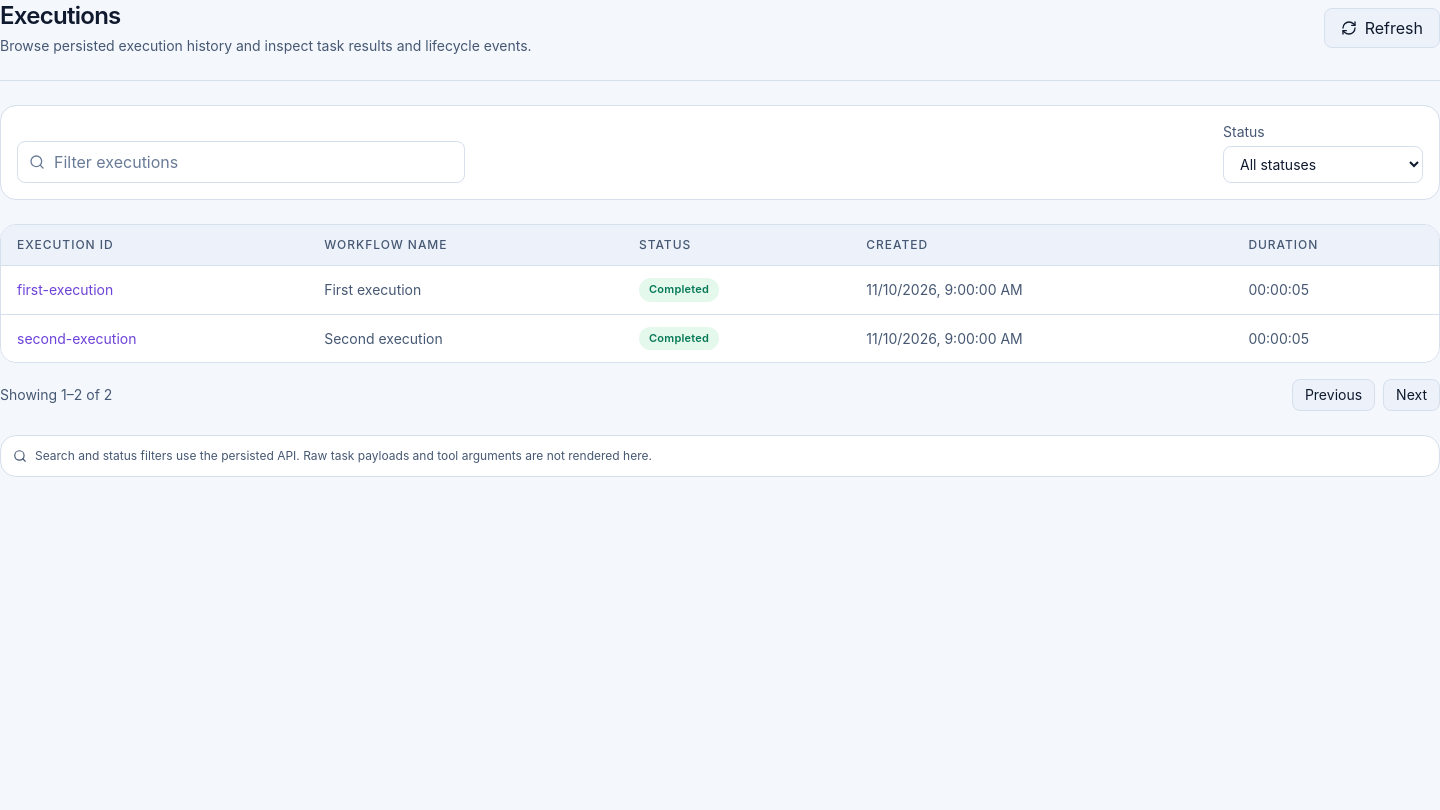
Test case: ExecutionsPage › ignores a stale detail response after selecting another execution
Step 1. Click the button "first-execution" → (65, 290), box x1=17 y1=280 x2=113 y2=300
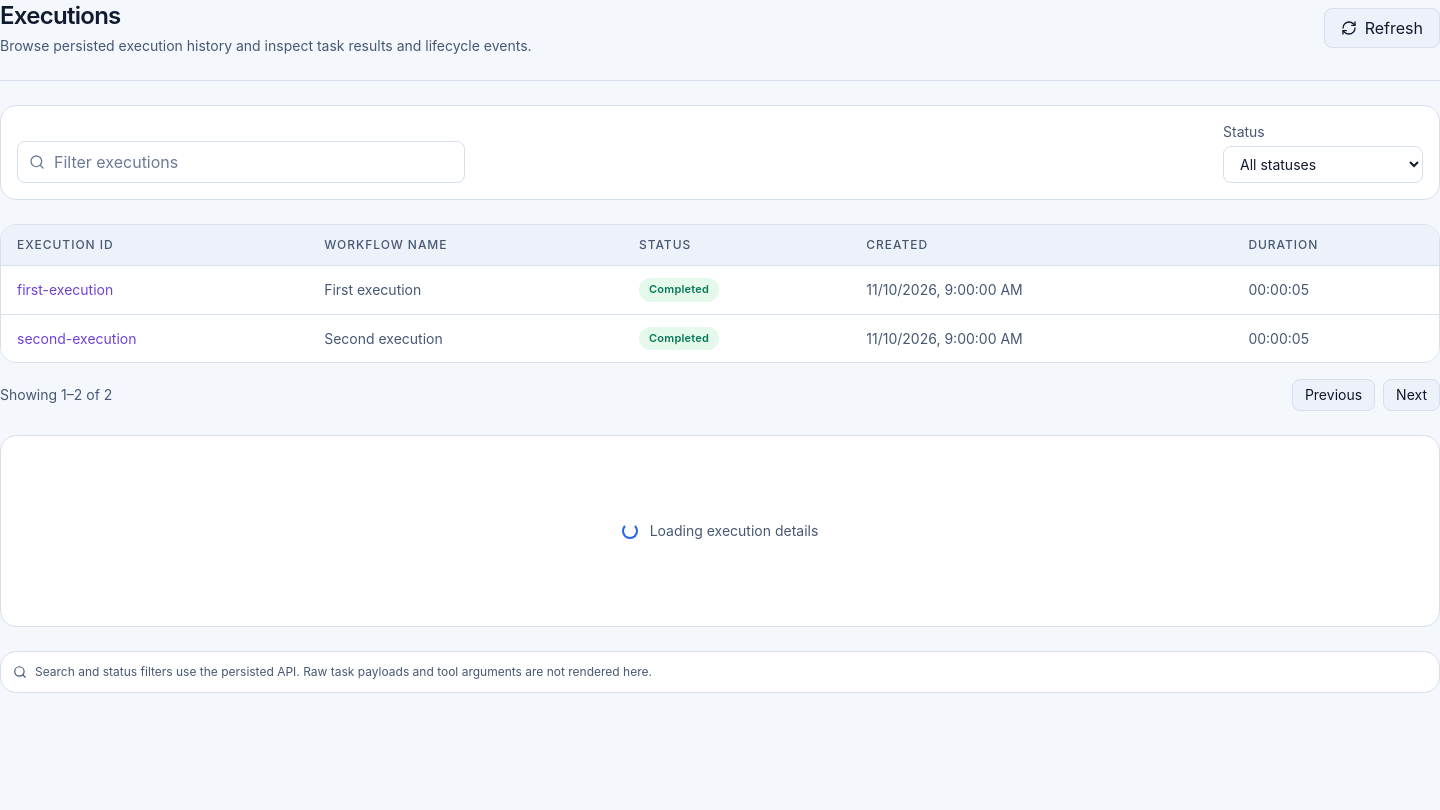
Step 2. Click the button "second-execution" → (77, 338), box x1=17 y1=328 x2=136 y2=348
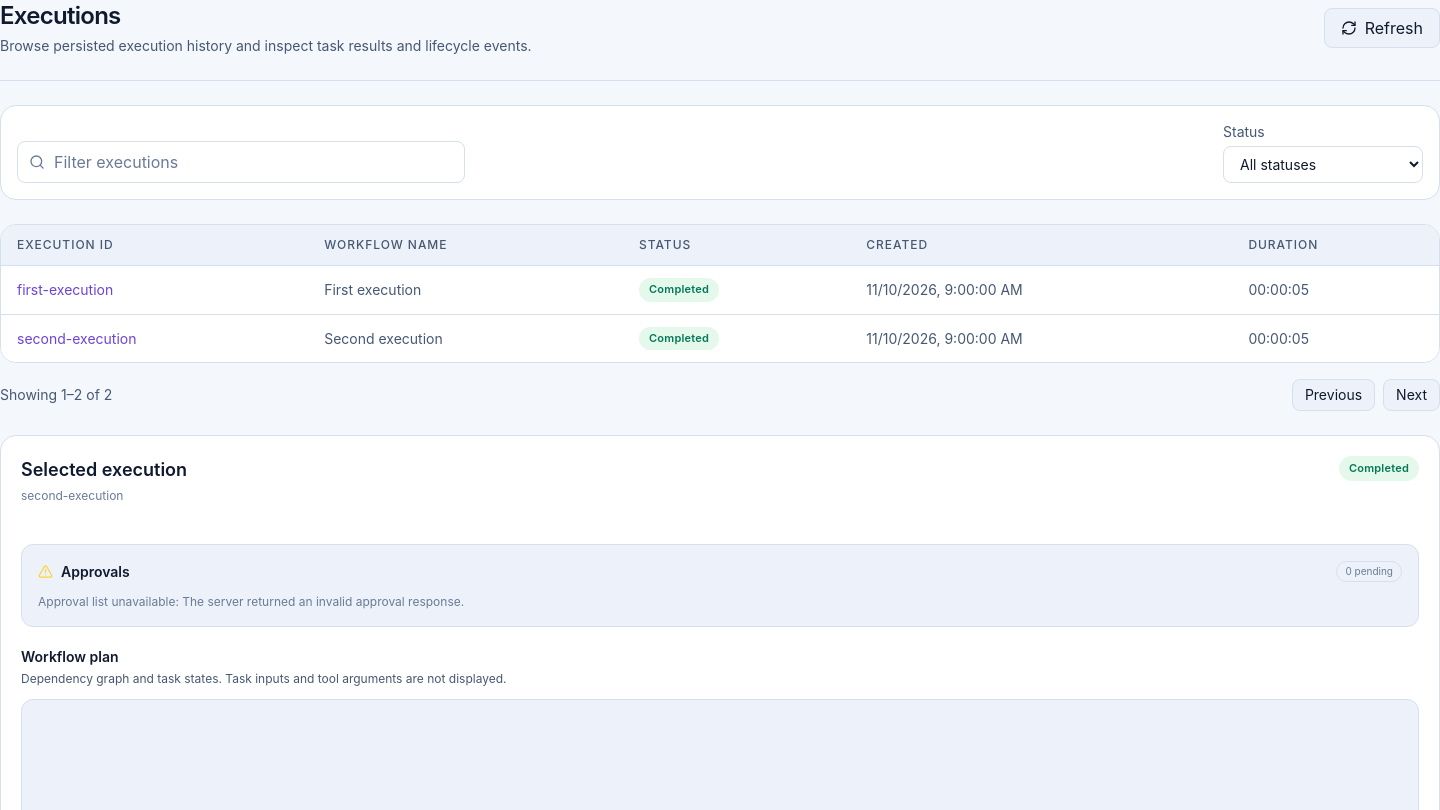
Expected: the heading "Selected execution" is shown, x1=21 y1=456 x2=187 y2=484
